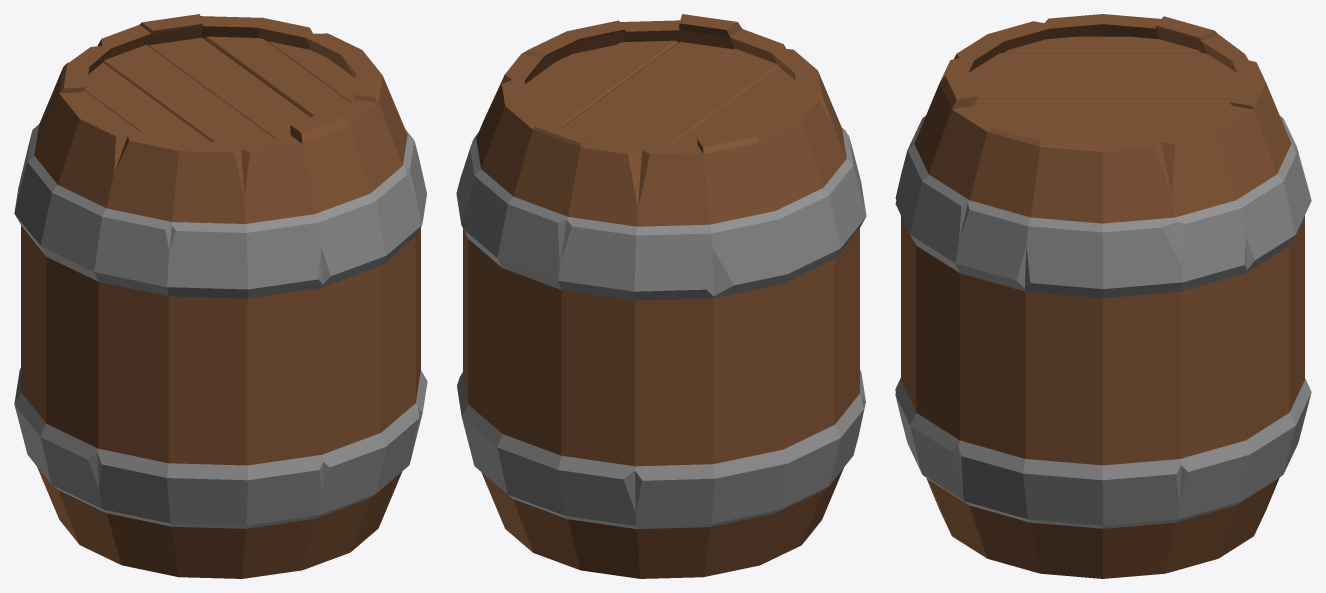
The model's file is Barril1.fbx.
3 renders of one model, left to right at view 1: azimuth 30°, elevation 25°; view 2: azimuth 150°, elevation 25°; view 3: azimuth 270°, elevation 25°, orthographic.
Parts seen in each view (by area): view 1: Barril; view 2: Barril; view 3: Barril.
Part boxes in pixels (bbox=[...]): Barril: bbox=[14, 14, 427, 578]; Barril: bbox=[456, 14, 866, 578]; Barril: bbox=[895, 14, 1311, 578].
Size of the model in its own units: 256 by 294 by 255.
